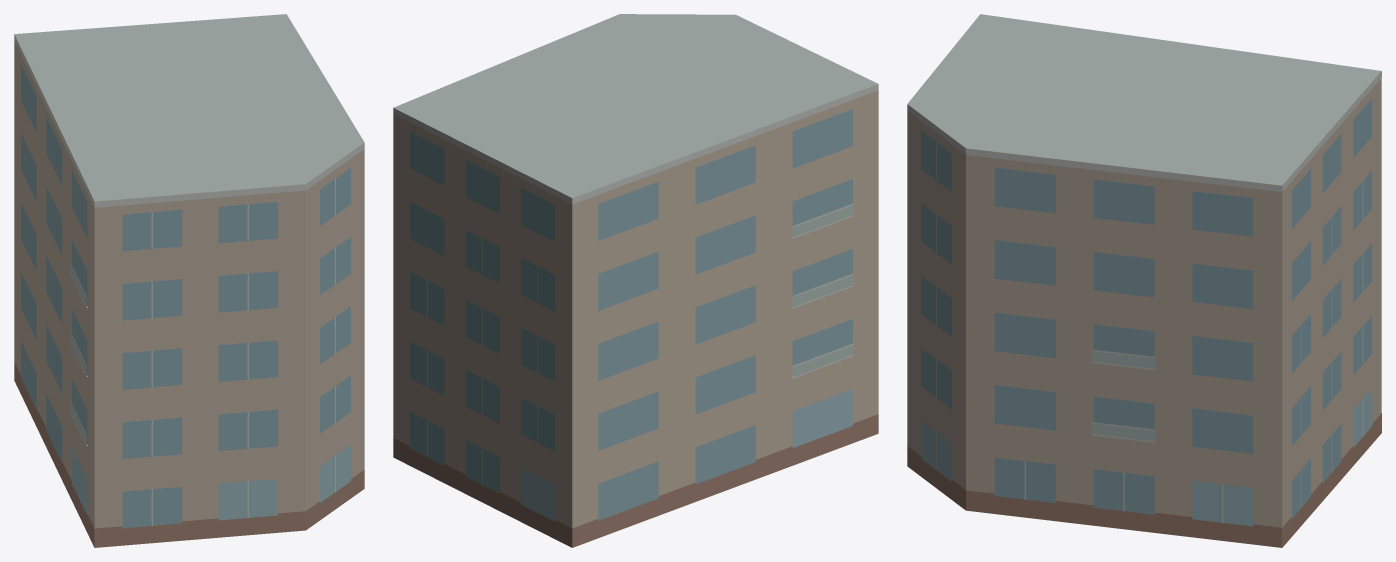
Rendered from survey-upis-32884292.glb.
3 views of the same model, side by side, from view 1: azimuth 30°, elevation 25°; view 2: azimuth 150°, elevation 25°; view 3: azimuth 270°, elevation 25° (orthographic). The views are drawn at different scales.
Parts seen in each view (by area): view 1: survey-upis-32884292.tmp; view 2: survey-upis-32884292.tmp; view 3: survey-upis-32884292.tmp.
Boxes of the visible parts, left/top/right/bottom form: survey-upis-32884292.tmp: left=14, top=14, right=364, bottom=547; survey-upis-32884292.tmp: left=393, top=14, right=878, bottom=547; survey-upis-32884292.tmp: left=907, top=14, right=1381, bottom=547.
Size of the model in its own units: 13.73 by 13.5 by 16.04.
